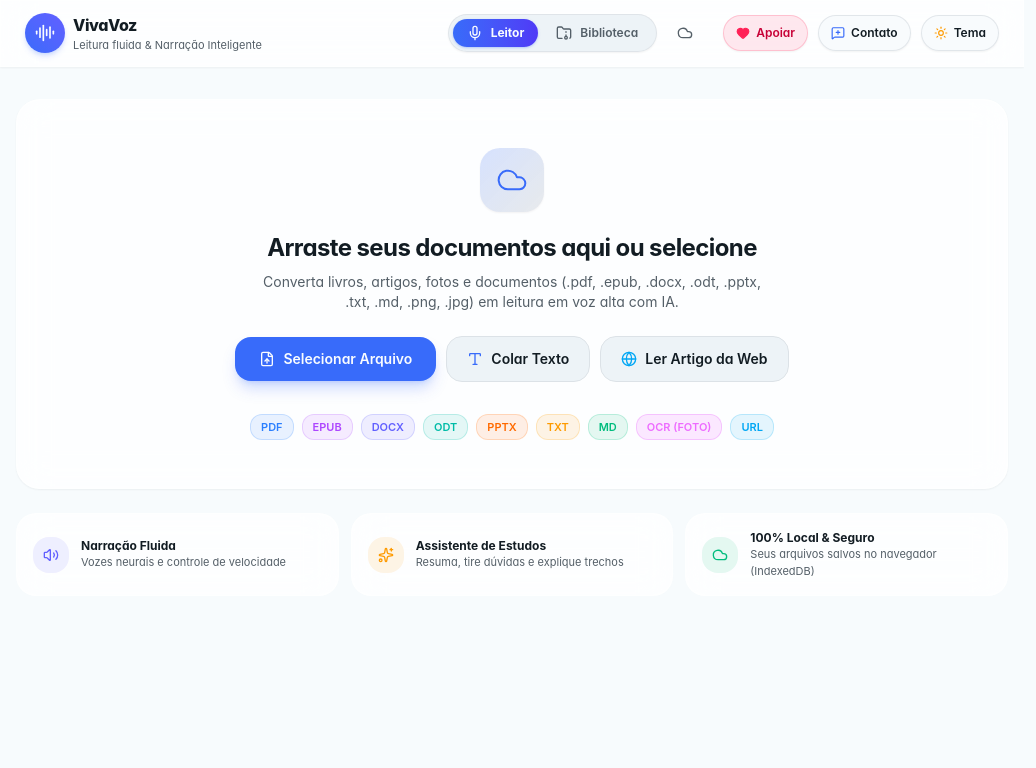
Scenario: Leitor de PDF - Fluxo Principal e Dropzone › deve navegar entre o Leitor e a Biblioteca através do cabeçalho
Expected: the header is shown, [0,0,1024,67]
Expected: the link "VivaVoz" is shown, [25,13,262,54]
Click the link "Biblioteca". click: (597, 33)
box: [556,25,638,41]
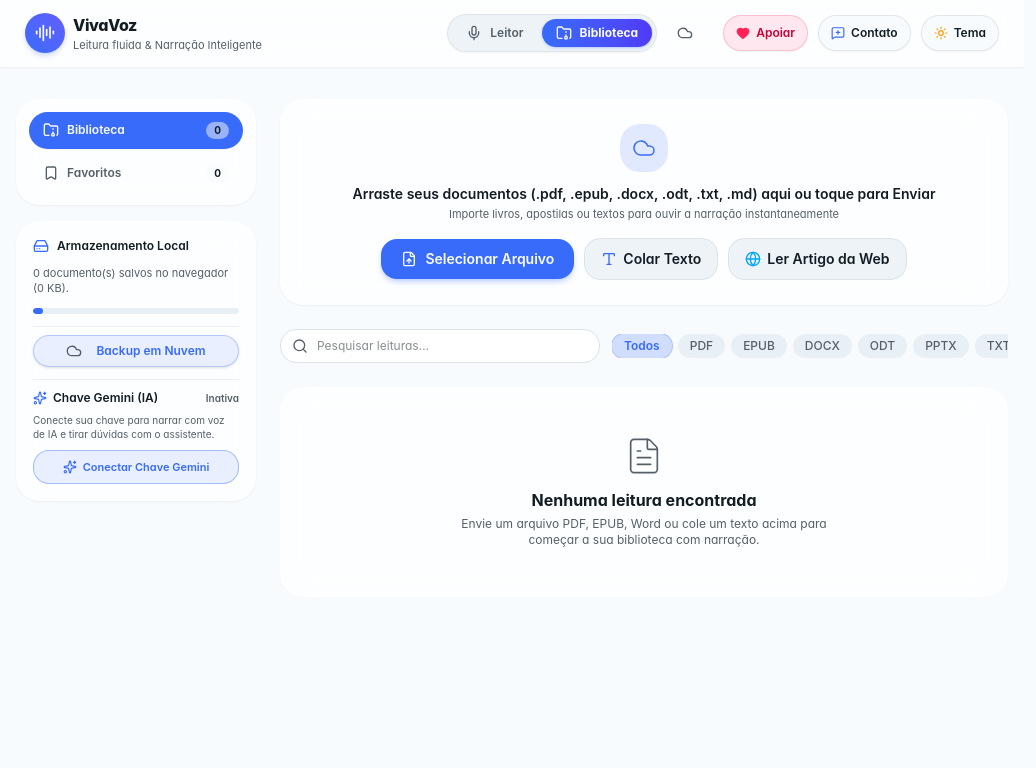
Result: the text "Armazenamento Local" is shown at [57,238,189,254]
Click the link "Leitor". click: (495, 33)
box: [466,25,523,41]
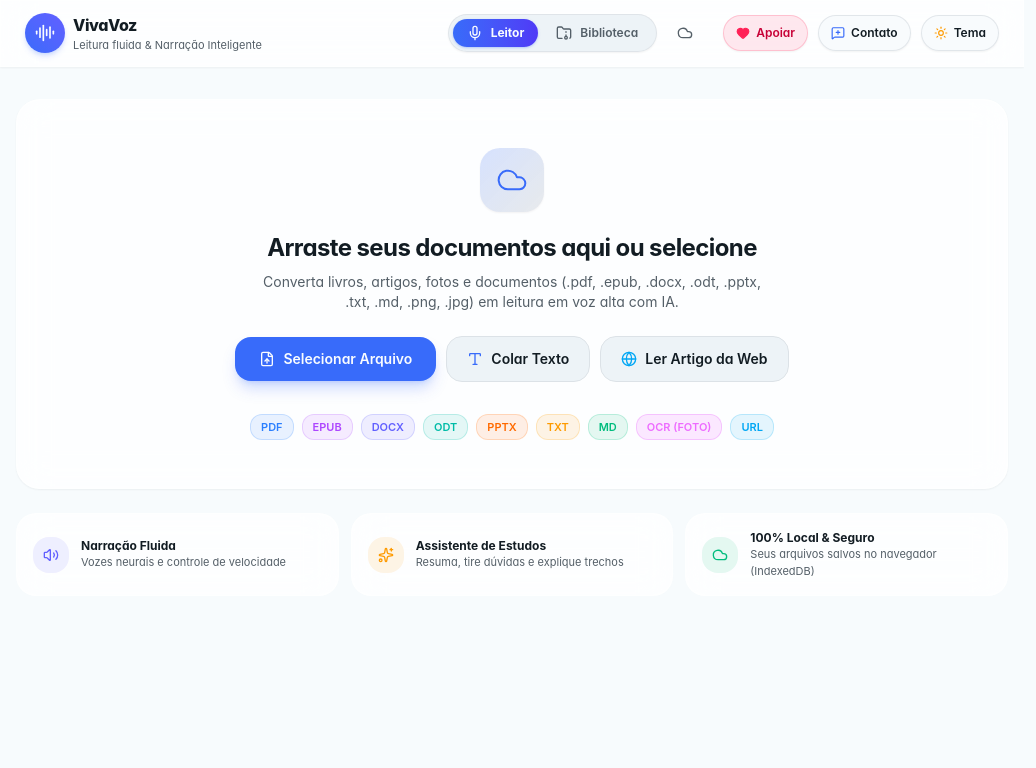
Result: the heading "Arraste seus documentos aqui ou selecione" is shown at [267,232,757,262]
